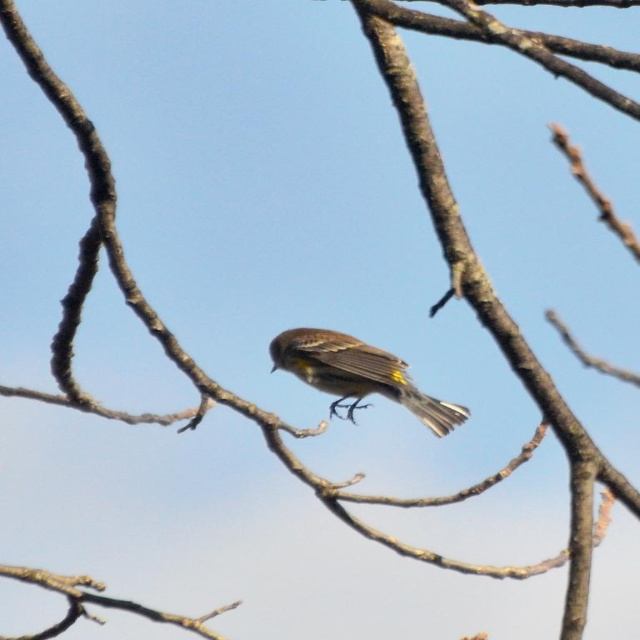Sparrow: (266, 326, 470, 438)
